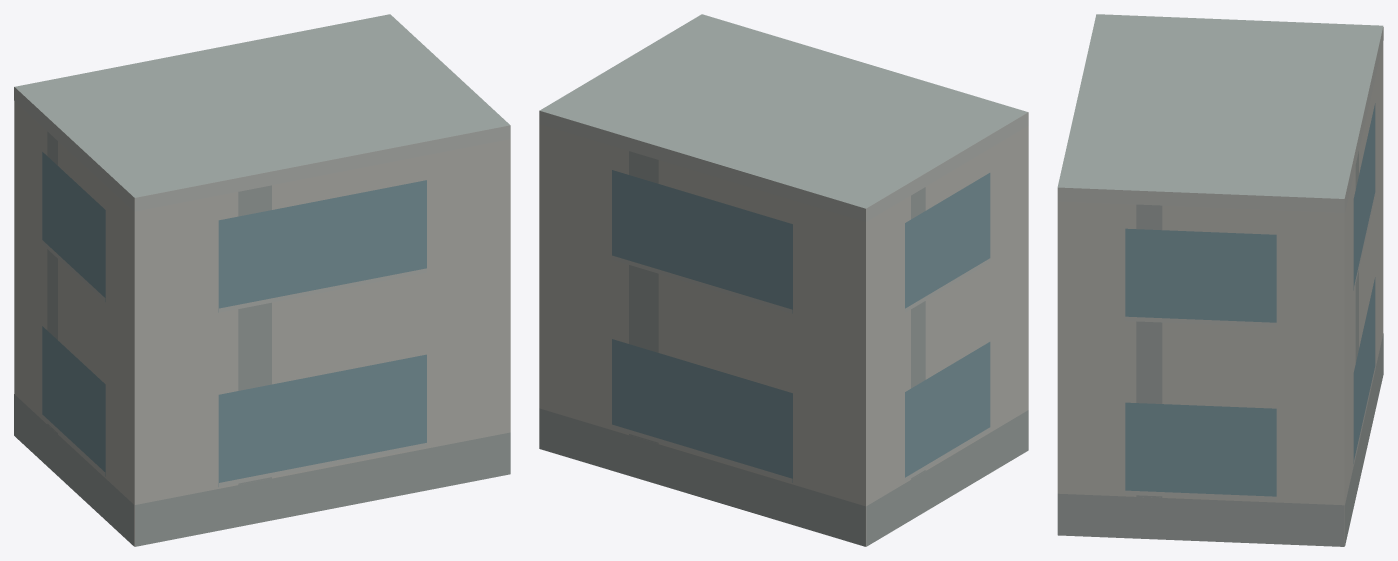
The model's file is survey-upis-32575798.glb.
3 views of the same model, side by side, from view 1: azimuth 30°, elevation 25°; view 2: azimuth 150°, elevation 25°; view 3: azimuth 270°, elevation 25° (orthographic). The views are drawn at different scales.
Parts seen in each view (by area): view 1: survey-upis-32575798.tmp; view 2: survey-upis-32575798.tmp; view 3: survey-upis-32575798.tmp.
Part boxes in pixels (bbox=[...]): survey-upis-32575798.tmp: bbox=[14, 14, 510, 546]; survey-upis-32575798.tmp: bbox=[539, 14, 1028, 546]; survey-upis-32575798.tmp: bbox=[1057, 14, 1383, 546].
Size of the model in its own units: 6.97 by 6.1 by 5.19.
